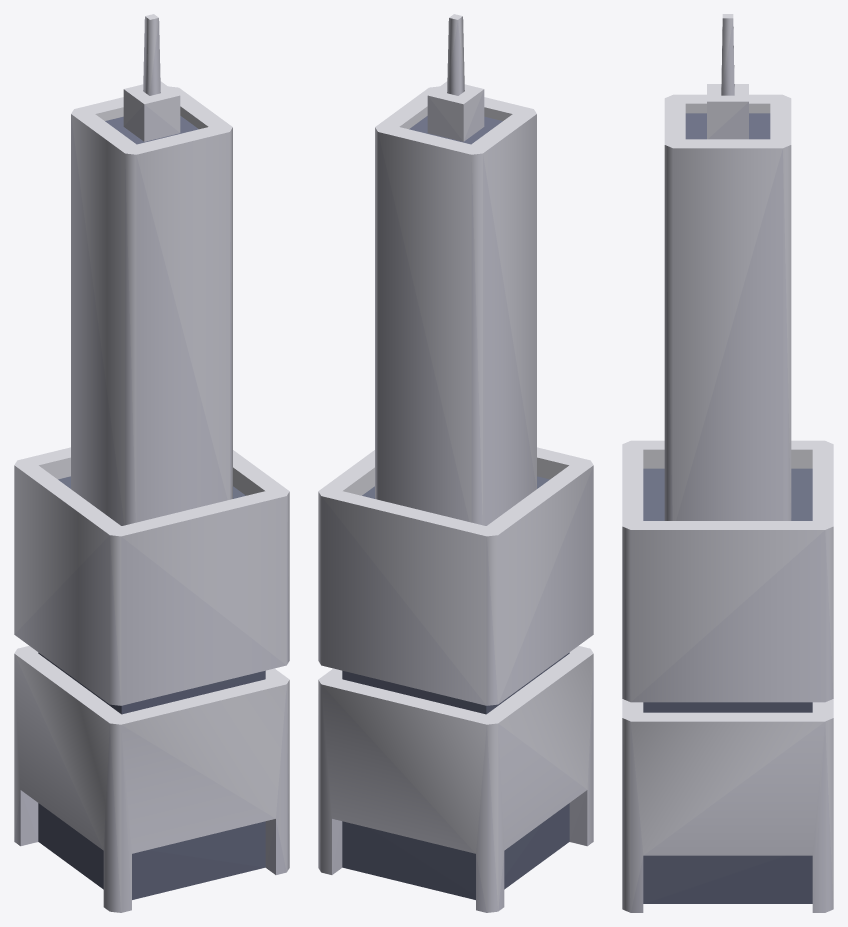
Rendered from sm-building-b.obj.
3 renders of one model, left to right at view 1: azimuth 30°, elevation 25°; view 2: azimuth 150°, elevation 25°; view 3: azimuth 270°, elevation 25°, orthographic.
Bounding box in the file's own units: 0.5 × 2.22 × 0.5.
